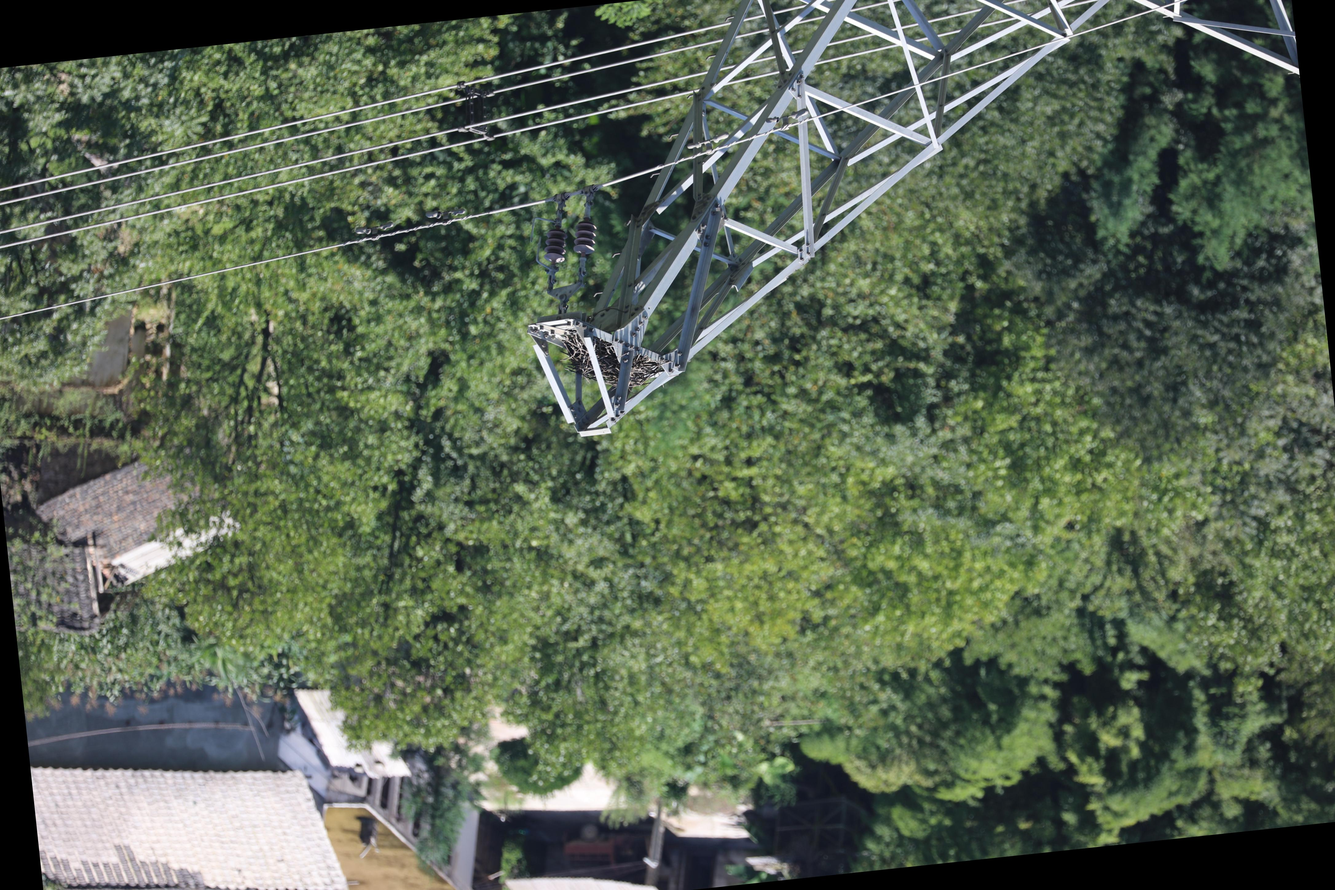damper: (762, 105, 813, 135), (683, 128, 733, 158), (423, 205, 470, 230), (373, 216, 417, 242)
